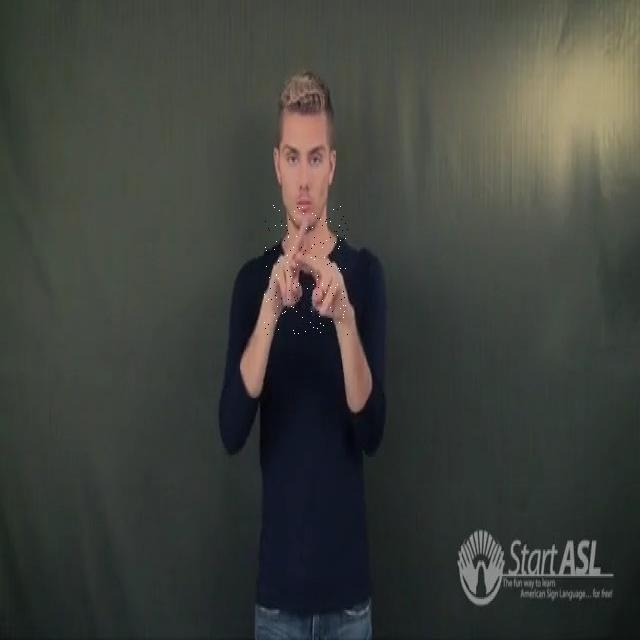salt: (264, 206, 348, 336)
